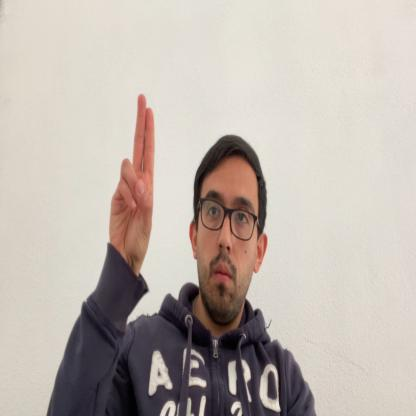U: (110, 92, 154, 276)
